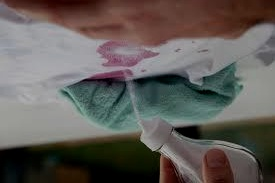wine: (93, 71, 127, 91), (102, 57, 136, 71), (101, 42, 113, 53), (146, 50, 158, 60)
